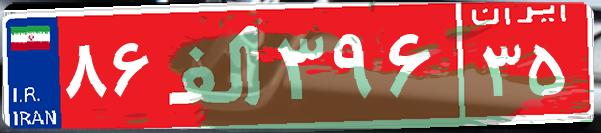3: (273, 28, 330, 110), (475, 38, 525, 113)
5: (525, 38, 570, 115)
6: (385, 28, 445, 110), (110, 28, 158, 105)
8: (57, 26, 110, 107)
9: (330, 28, 385, 110)
الف: (158, 15, 273, 115)
